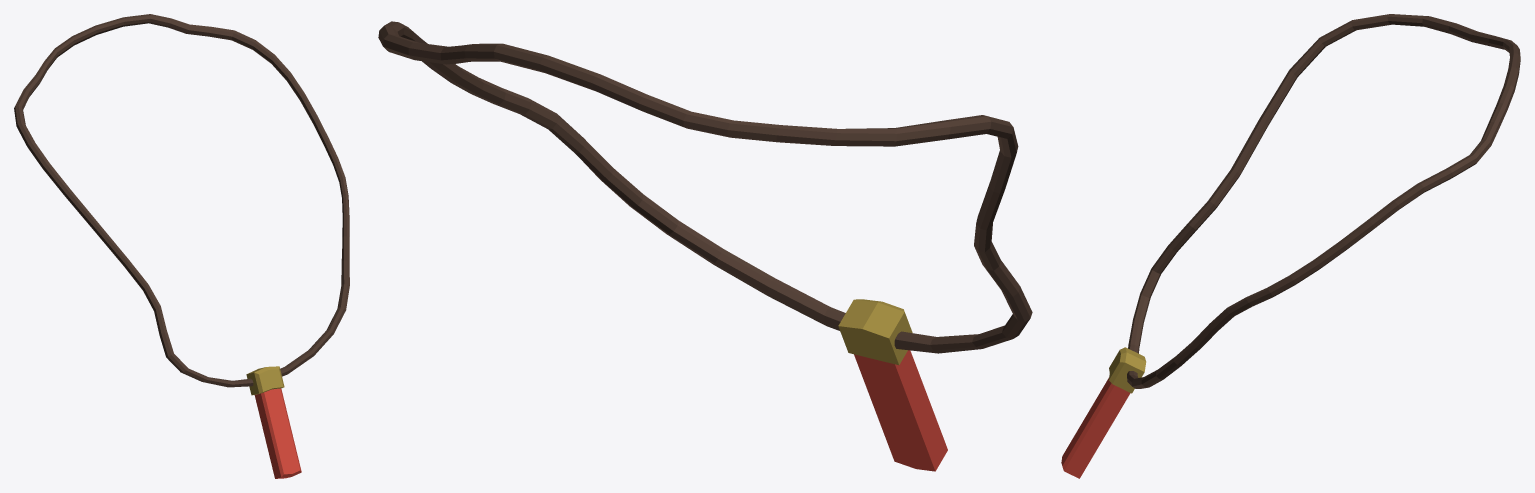
File: necklace2-e8b32bad24.glb
The picture shows the model from 3 angles, left to right: view 1: azimuth 30°, elevation 25°; view 2: azimuth 150°, elevation 25°; view 3: azimuth 270°, elevation 25°; orthographic projection. The views are drawn at different scales.
Parts seen in each view (by area): view 1: Necklace2.obj; view 2: Necklace2.obj; view 3: Necklace2.obj.
Part boxes in pixels (x1,y1,x2,y2): Necklace2.obj: [14, 14, 349, 478]; Necklace2.obj: [378, 21, 1032, 471]; Necklace2.obj: [1061, 14, 1520, 478].
Size of the model in its own units: 0.91 by 1 by 1.01.
